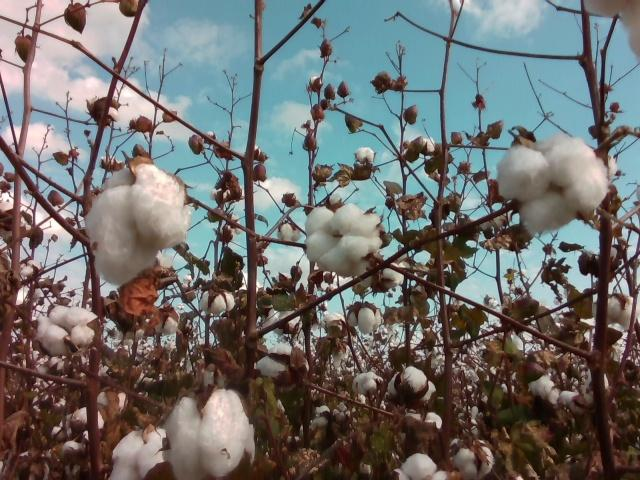cotton_ready: (87, 161, 194, 286), (494, 132, 609, 233), (165, 387, 257, 480), (305, 202, 384, 272), (106, 427, 168, 480), (584, 0, 640, 57), (527, 370, 609, 408), (42, 302, 101, 351), (451, 436, 495, 480), (386, 367, 437, 404), (260, 342, 308, 380), (395, 452, 449, 480), (598, 292, 640, 328)
